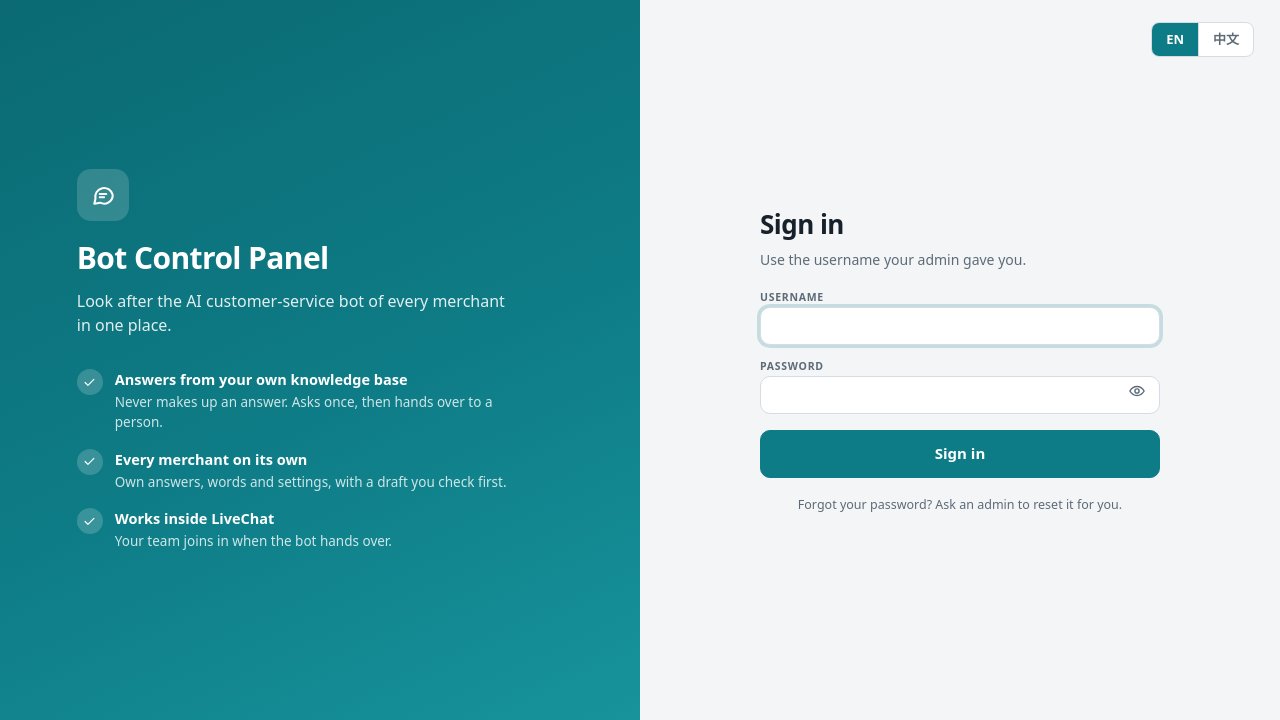
Test: Login page language › switches to Chinese and remembers it for the panel
Click the button "中文" at (1226, 39), box [1198,23,1253,56]
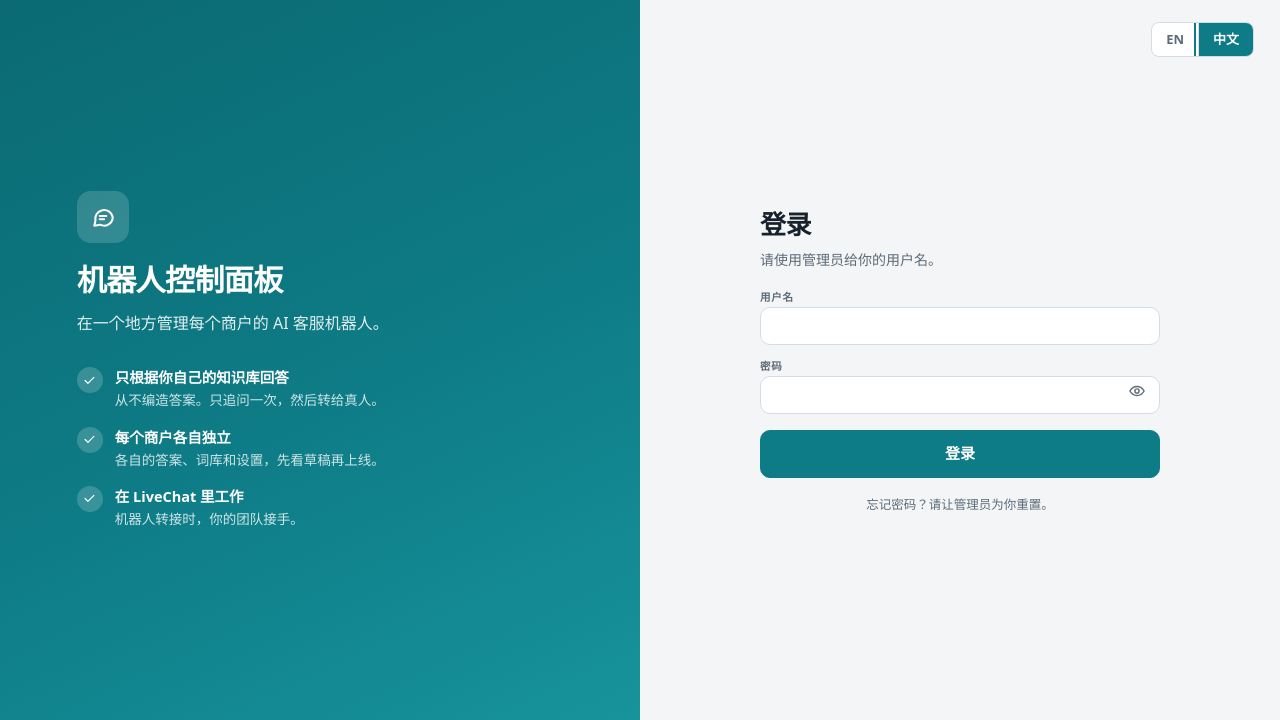
expect the button "登录" is shown: met, box [760,430,1160,478]
